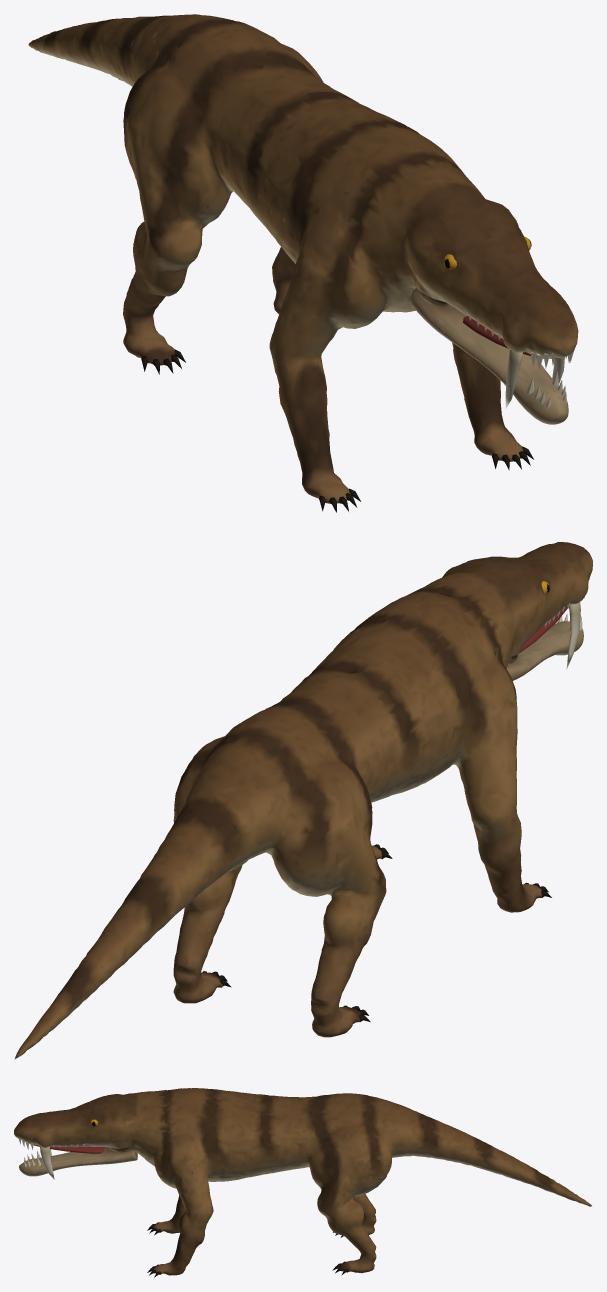
The model's file is Inostrancevia.fbx.
3 views of the same model, one above another, from view 1: azimuth 30°, elevation 25°; view 2: azimuth 150°, elevation 25°; view 3: azimuth 270°, elevation 25° (orthographic). The views are drawn at different scales.
Parts seen in each view (by area): view 1: Inostrancevia; view 2: Inostrancevia; view 3: Inostrancevia.
Boxes of the visible parts, x1,y1,x2,y2 form: Inostrancevia: (28,14,578,512); Inostrancevia: (14,542,592,1059); Inostrancevia: (14,1088,591,1277).
Bounding box in the file's own units: 0.4992 × 0.7072 × 2.3.
